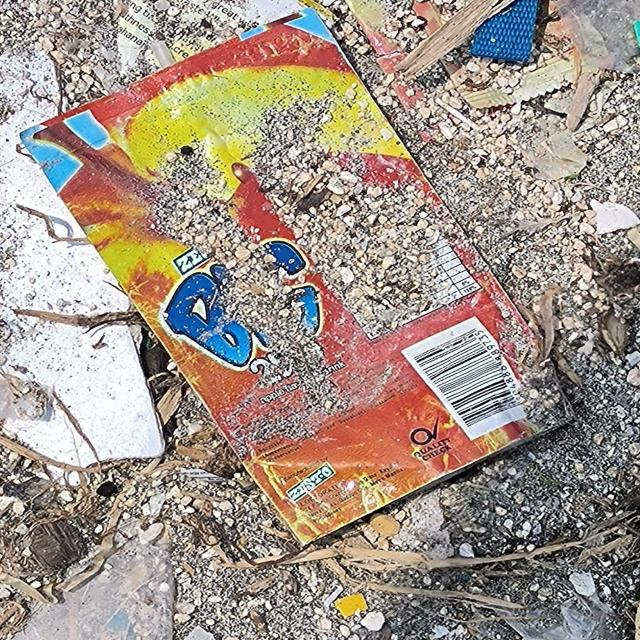plastic_waste: (17, 4, 581, 550)
